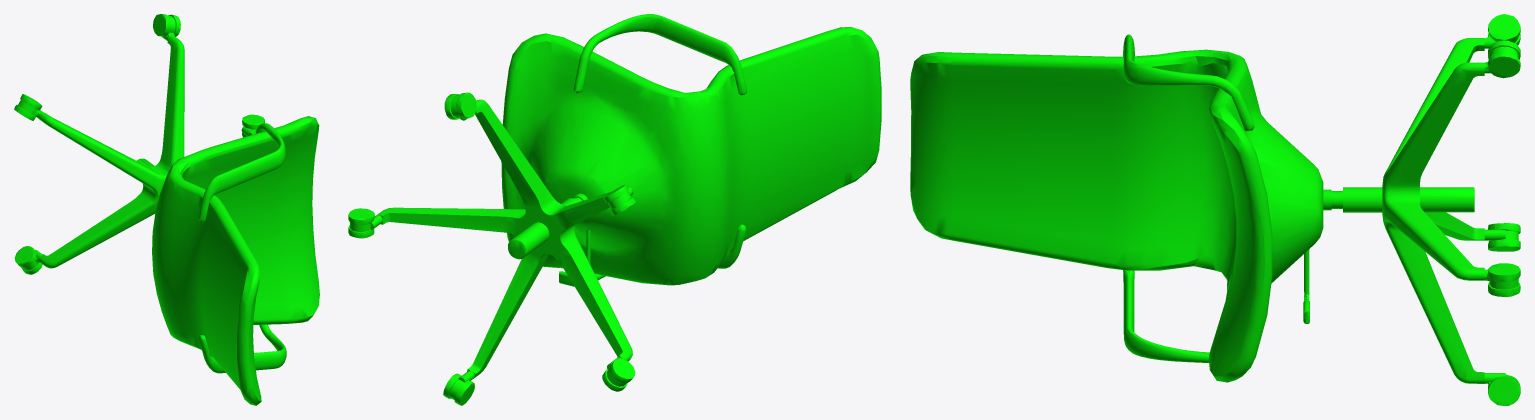
The model's file is Chair.obj.
3 renders of one model, left to right at view 1: azimuth 30°, elevation 25°; view 2: azimuth 150°, elevation 25°; view 3: azimuth 270°, elevation 25°, orthographic. The views are drawn at different scales.
Visible parts, largest first — view 1: Твердое_тело1_5.001; view 2: Твердое_тело1_5.001; view 3: Твердое_тело1_5.001.
Part boxes in pixels (x1=…): Твердое_тело1_5.001: x1=14, y1=14, x2=319, y2=405; Твердое_тело1_5.001: x1=348, y1=14, x2=881, y2=405; Твердое_тело1_5.001: x1=910, y1=14, x2=1520, y2=405.
Bounding box in the file's own units: 0.6361 × 0.6678 × 1.02.
